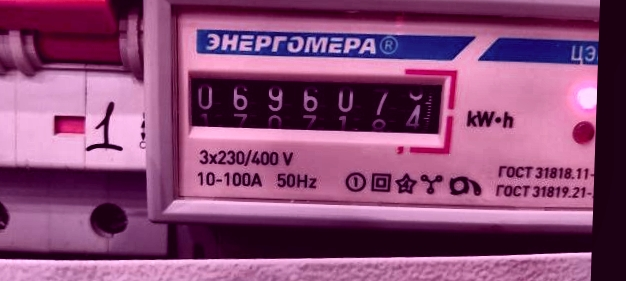0: (193, 81, 215, 111), (335, 84, 355, 114)
4: (401, 102, 421, 131)
6: (299, 83, 320, 115), (229, 82, 249, 112)
7: (370, 85, 389, 116)
9: (264, 83, 285, 113)
screen: (174, 54, 459, 155)
